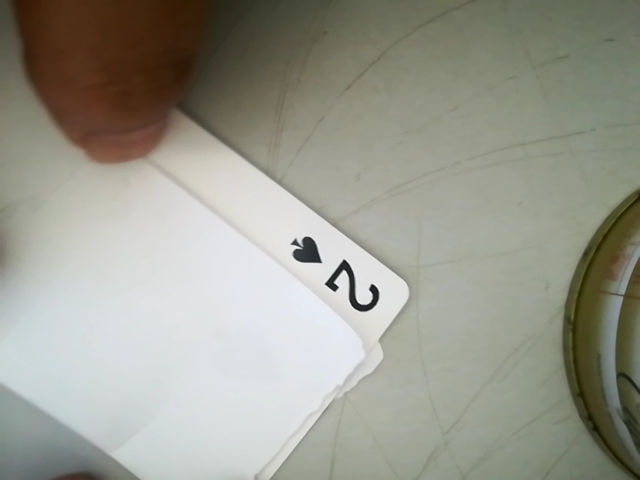ht 2: (287, 227, 393, 317)
